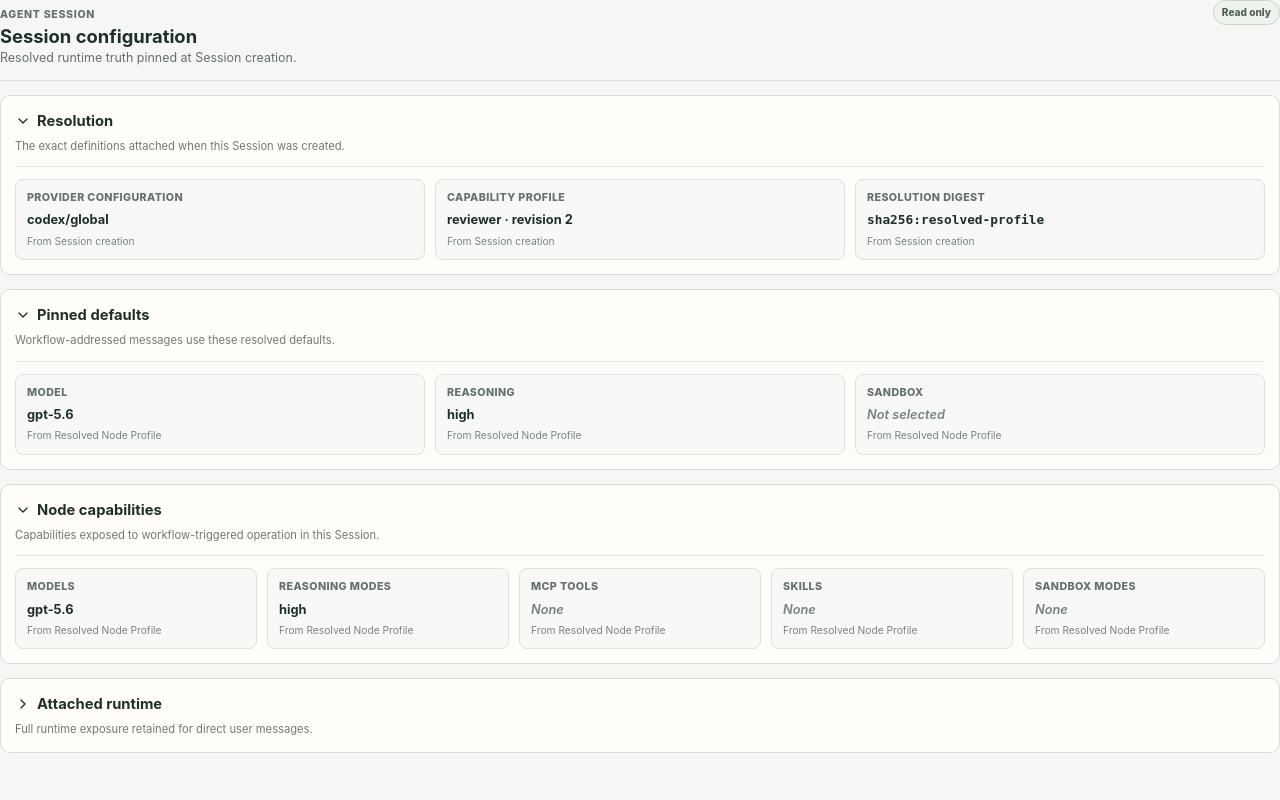
Scenario: Execution Configuration editors › presents a pinned Session Profile without editable or initial-prompt controls
Expected: the text "reviewer · revision 2" is shown, x1=447 y1=212 x2=573 y2=228
Expected: the text "sha256:resolved-profile" is shown, x1=867 y1=212 x2=1044 y2=228
Click the button with aria-label "Expand Attached runtime" at (89, 704), box x1=10 y1=689 x2=167 y2=719
(page scrolled)
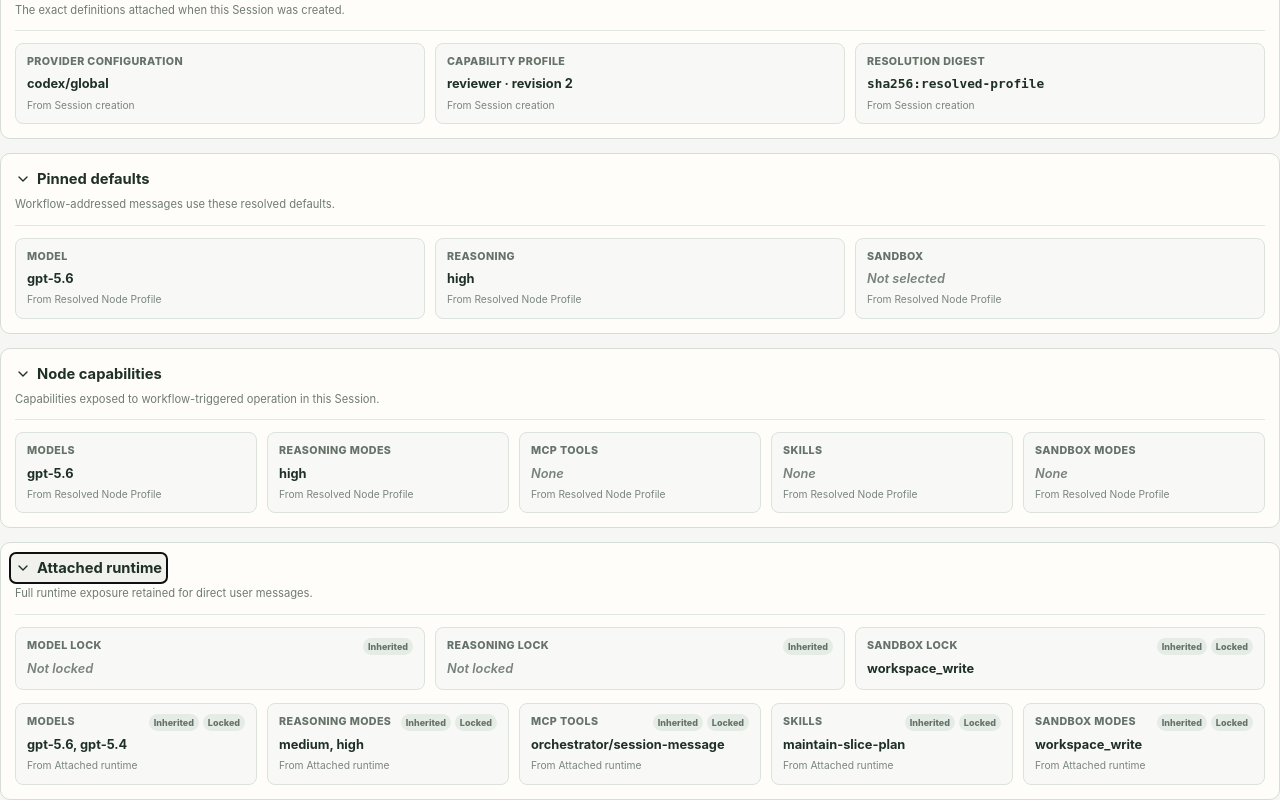
Expected: the text "maintain-slice-plan" is shown, x1=783 y1=737 x2=905 y2=752
